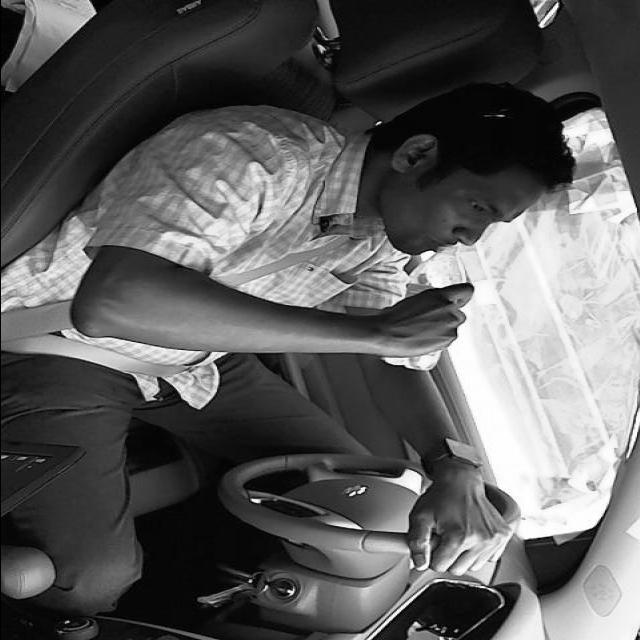drinking: (380, 239, 474, 373)
